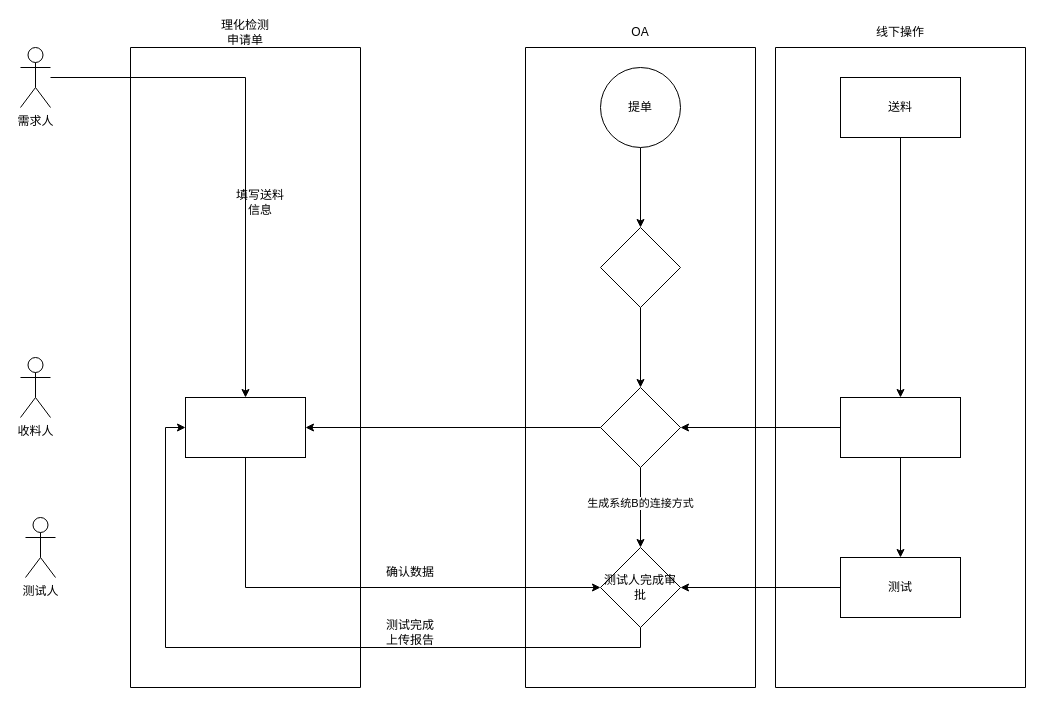
Some shapes in this 1043 by 705 pixel diagram are drawn without their labels. The centre of each missing label's shape, as x and y in pixels:
上传数据到系统: the point at 245,427
上级审批: the point at 640,267
收料: the point at 900,427
收料人确认审批: the point at 640,427
